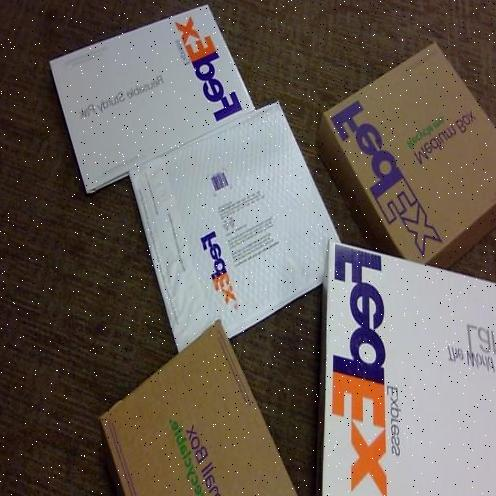Amazon: (161, 101, 330, 343), (110, 313, 324, 496), (65, 3, 242, 209), (327, 50, 496, 262)
